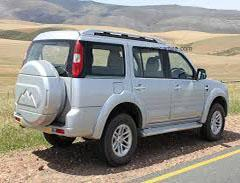car: (4, 16, 238, 172)
